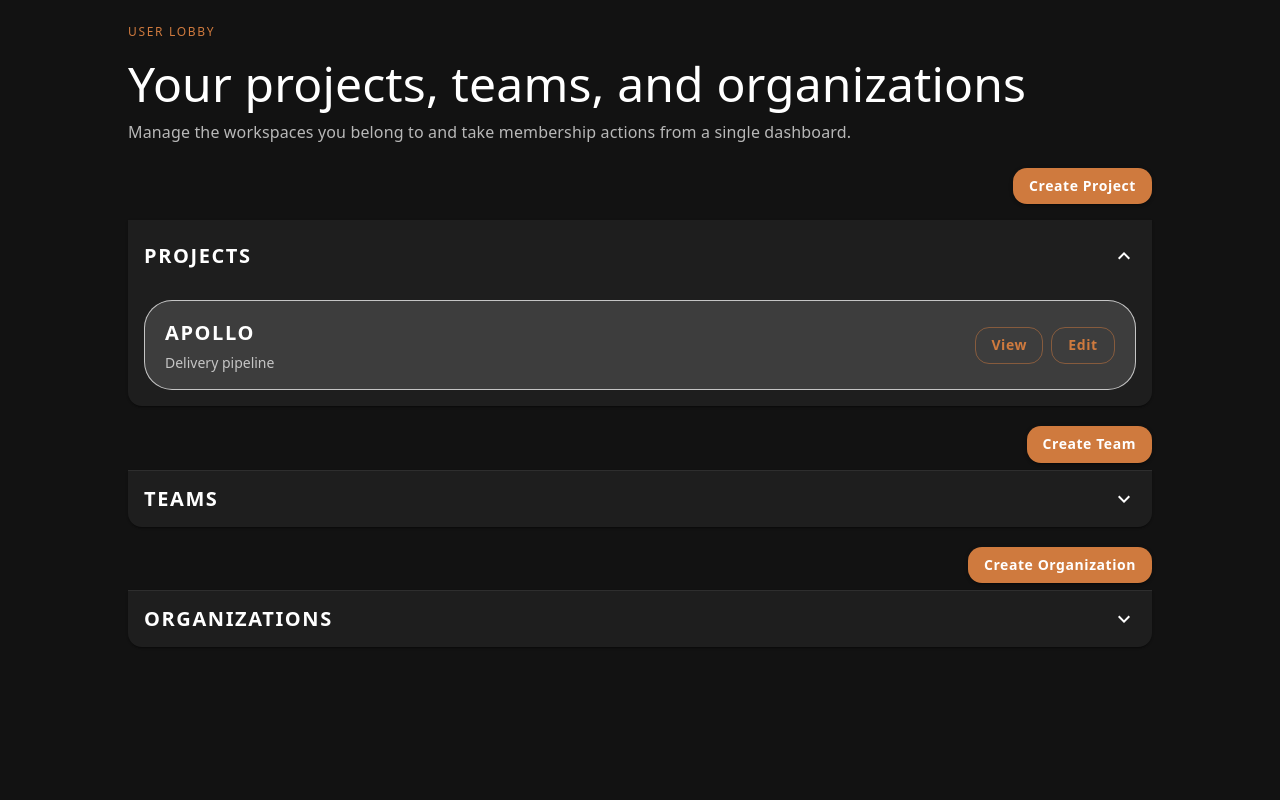
Test: UserLobbyPage › refreshes project summary data after editing the same project
The width and height of the screenshot is (1280, 800).
Expected: the heading "Apollo" is shown, x1=165 y1=319 x2=255 y2=346
Click the button "View" at x=1009, y=345, box x1=975 y1=327 x2=1043 y2=364
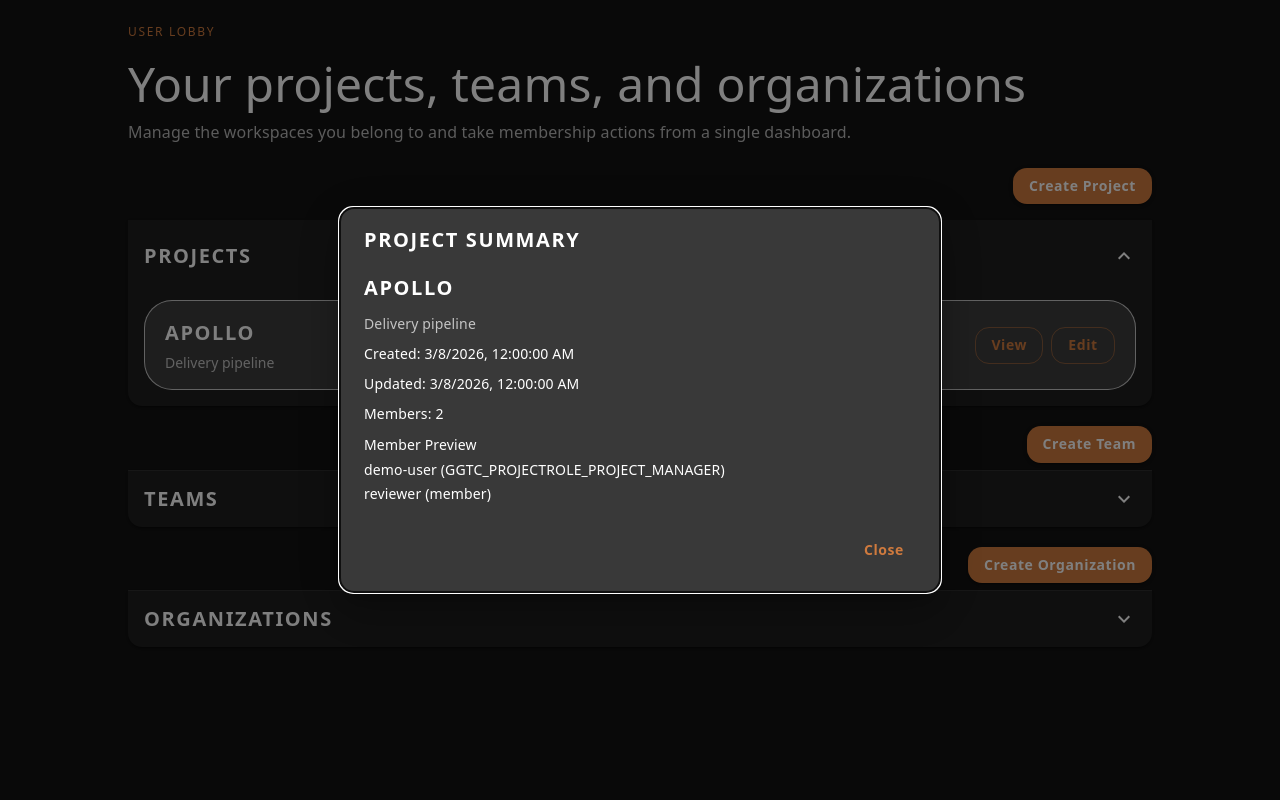
Expected: the text "demo-user (GGTC_PROJECTROLE_PROJECT_MANAGER)" is shown, x1=364 y1=460 x2=725 y2=479
Click the button "Close" at x=884, y=550, box x1=852 y1=532 x2=916 y2=568
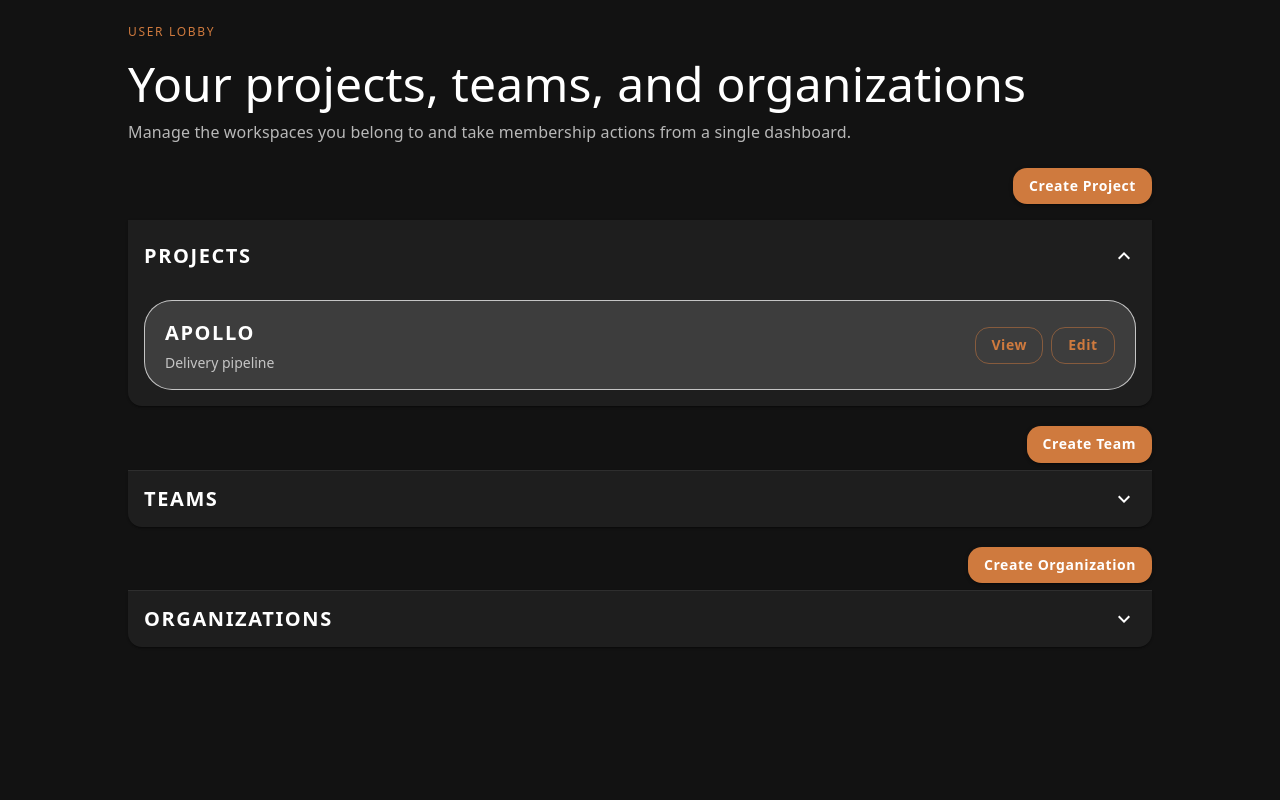
Expected: the heading "Project Summary" is gone
Click the button "Edit" at x=1083, y=345, box x1=1051 y1=327 x2=1115 y2=364
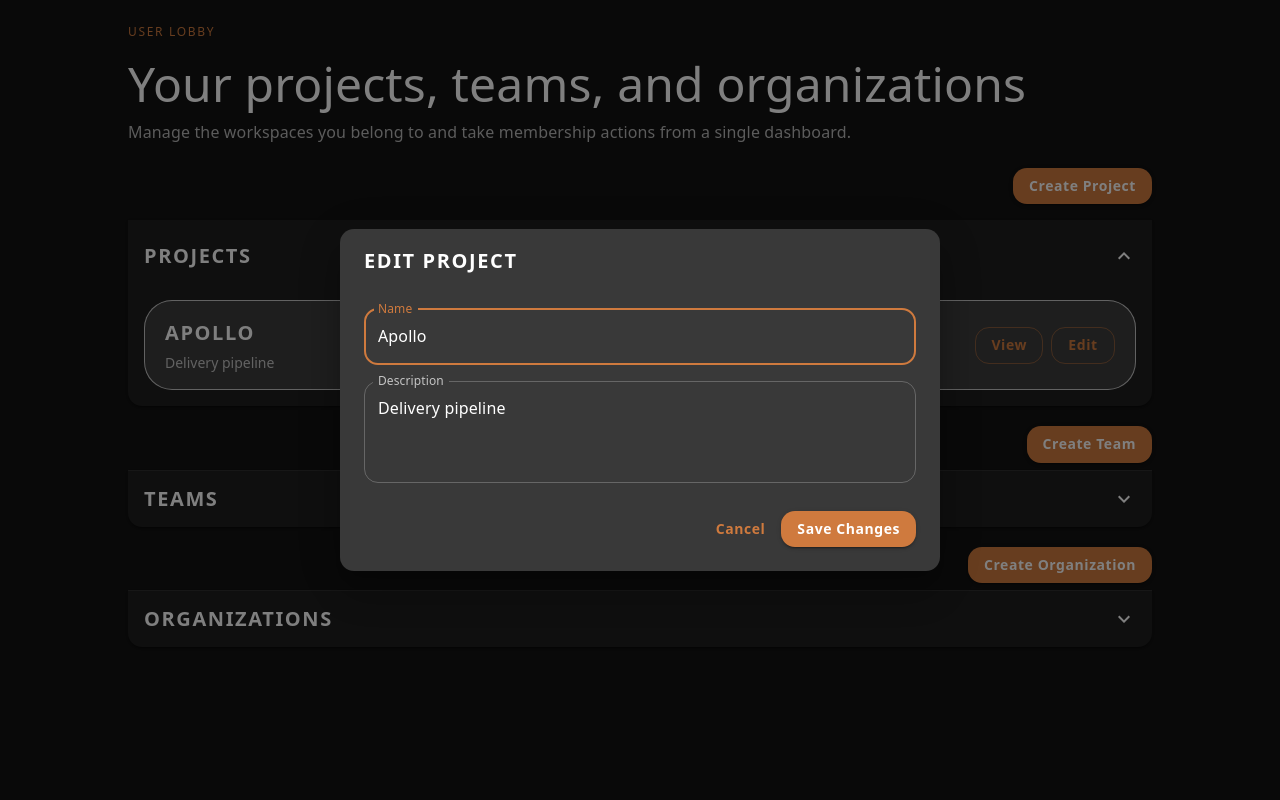
Replace the text in the field labelled "Name" with "Apollo Prime" at x=640, y=337, box x1=364 y1=309 x2=916 y2=365
Replace the text in the text box labelled "Description" with "Updated description" at x=640, y=432, box x1=378 y1=397 x2=902 y2=466
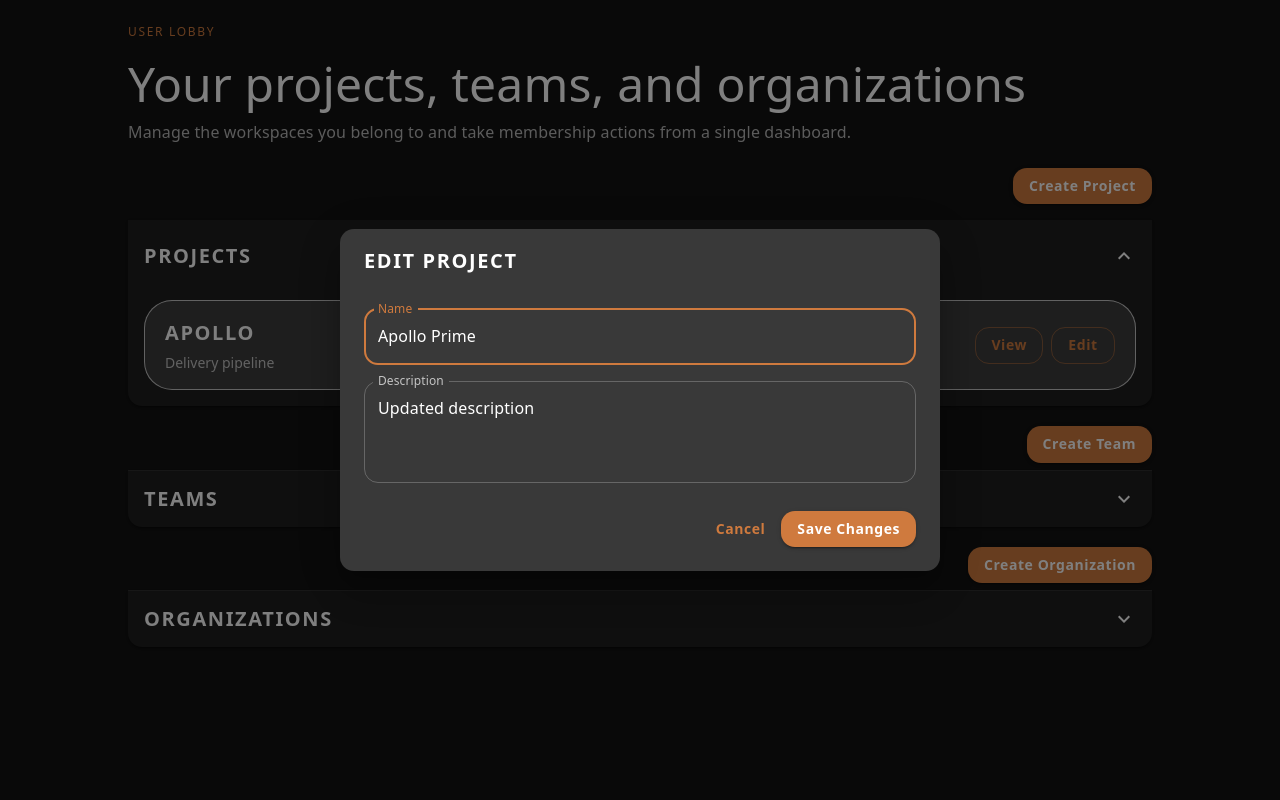
Press Enter
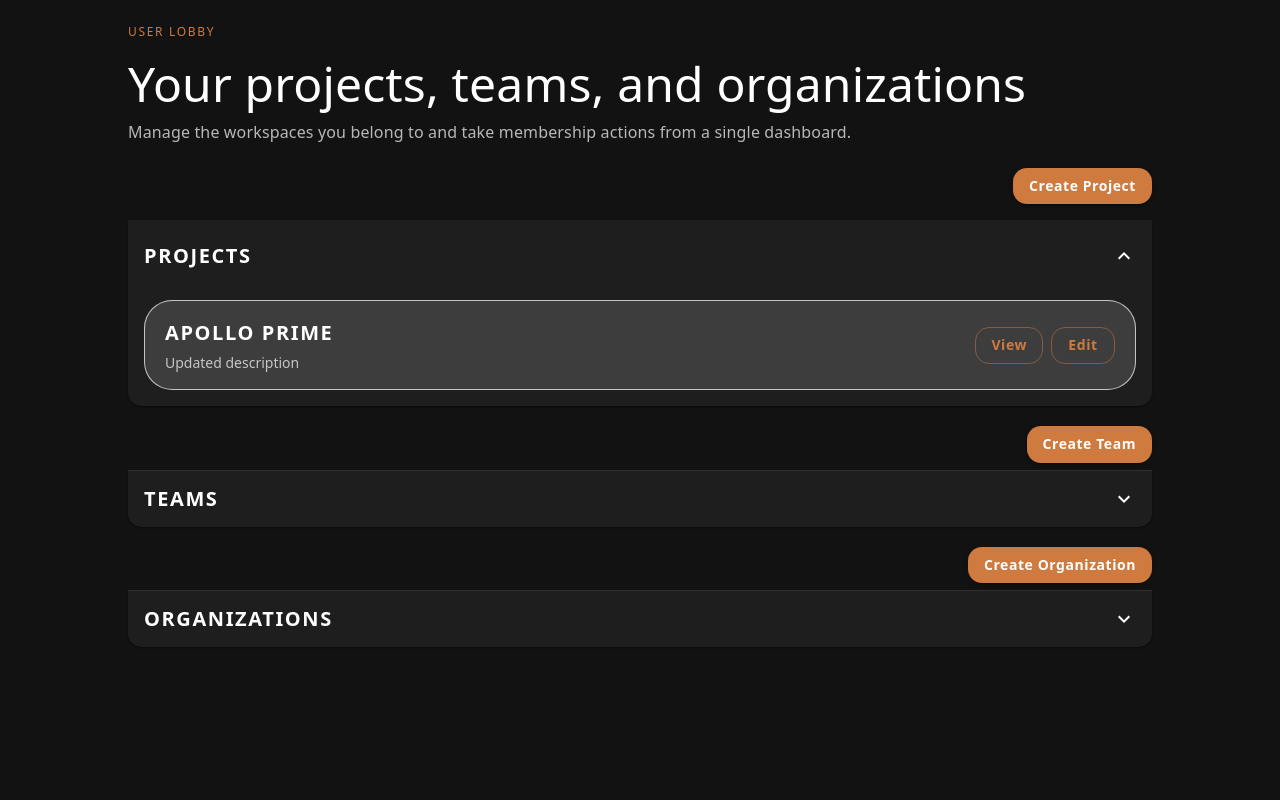
Click the button "View" at x=1009, y=345, box x1=975 y1=327 x2=1043 y2=364
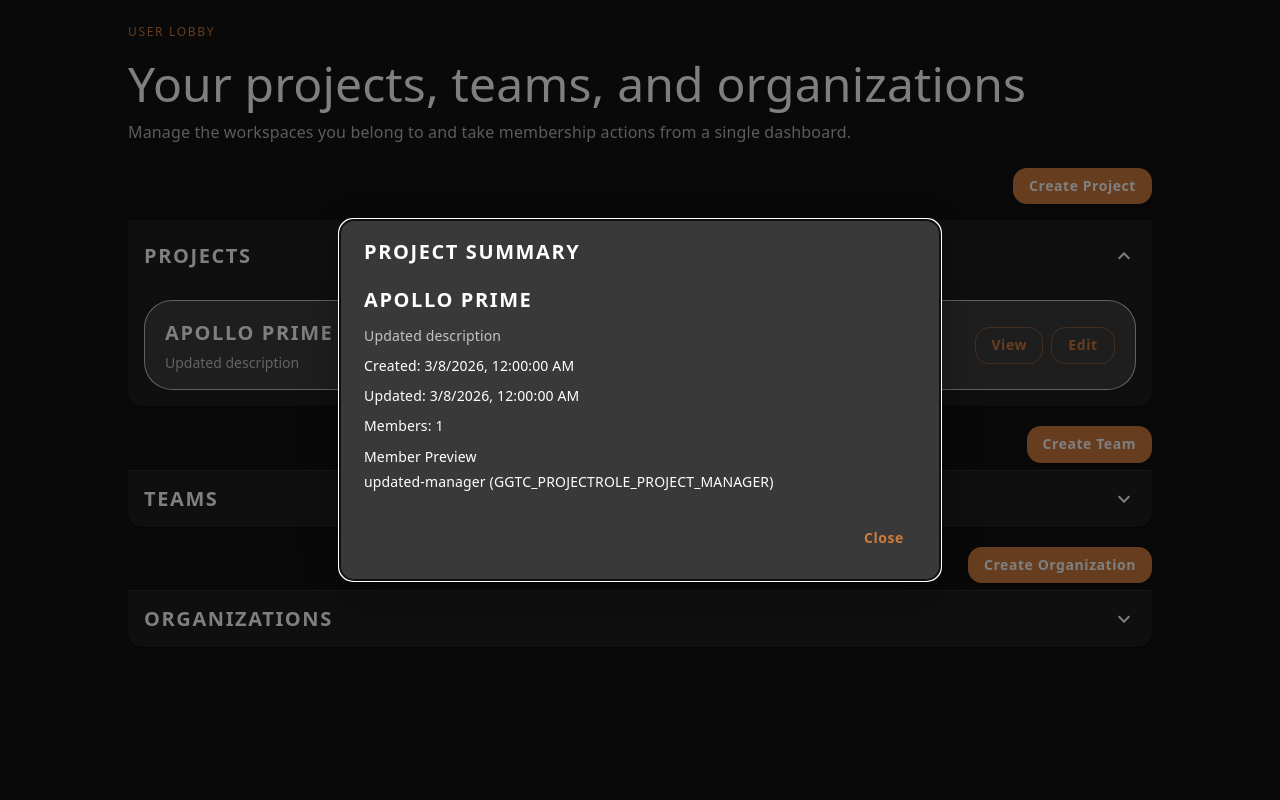
Expected: the text "updated-manager (GGTC_PROJECTROLE_PROJECT_MANAGER)" is shown, x1=364 y1=472 x2=774 y2=491
